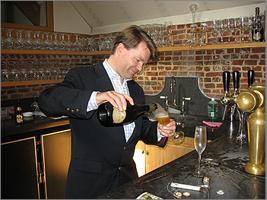person: (40, 24, 176, 199)
